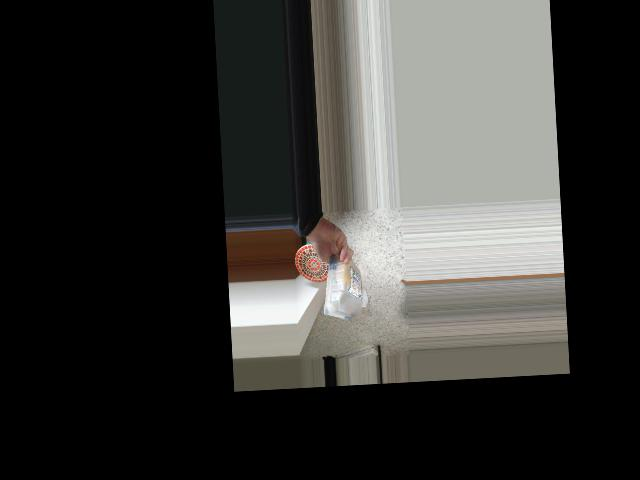cheese: (323, 254, 364, 322)
